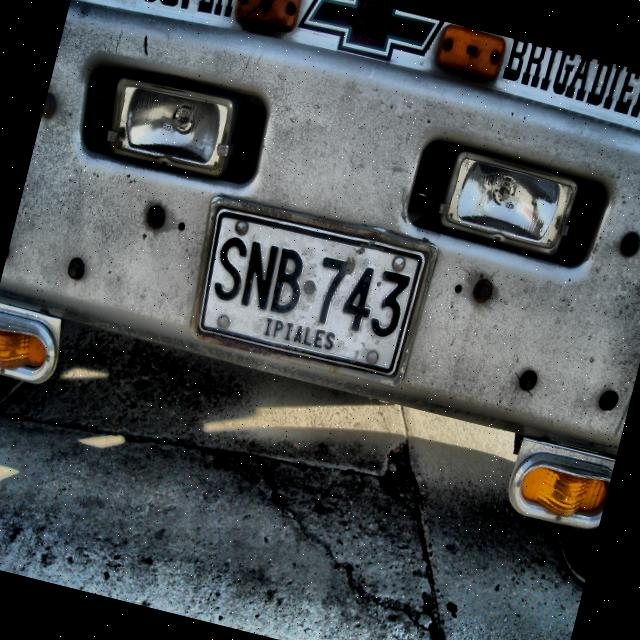plate: (196, 206, 428, 378)
